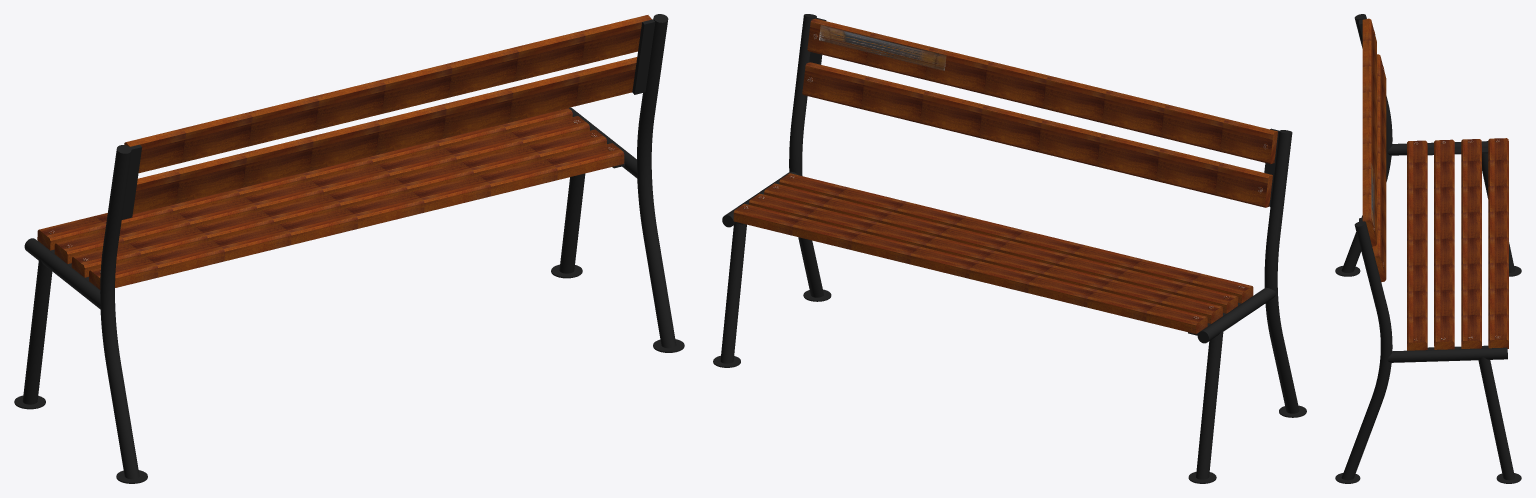
The picture shows the model from 3 angles, left to right: view 1: azimuth 30°, elevation 25°; view 2: azimuth 150°, elevation 25°; view 3: azimuth 270°, elevation 25°; orthographic projection. The views are drawn at different scales.
Parts seen in each view (by area): view 1: mesh1_mesh1-geometry, mesh3_mesh3-geometry, mesh27_mesh27-geometry, mesh7_mesh7-geometry, mesh5_mesh5-geometry, mesh25_mesh25-geometry; view 2: mesh3_mesh3-geometry, mesh1_mesh1-geometry, mesh27_mesh27-geometry, mesh7_mesh7-geometry, mesh45_mesh45-geometry; view 3: mesh1_mesh1-geometry, mesh7_mesh7-geometry, mesh3_mesh3-geometry, mesh27_mesh27-geometry, mesh45_mesh45-geometry.
Boxes of the visible parts, x1,y1,x2,y2 form: mesh1_mesh1-geometry: [37, 108, 624, 289]; mesh3_mesh3-geometry: [124, 15, 651, 213]; mesh27_mesh27-geometry: [22, 145, 139, 479]; mesh7_mesh7-geometry: [559, 14, 676, 348]; mesh5_mesh5-geometry: [632, 19, 655, 94]; mesh25_mesh25-geometry: [121, 144, 141, 219]; mesh3_mesh3-geometry: [802, 18, 1277, 207]; mesh1_mesh1-geometry: [733, 173, 1253, 333]; mesh27_mesh27-geometry: [1196, 130, 1299, 479]; mesh7_mesh7-geometry: [720, 14, 823, 363]; mesh45_mesh45-geometry: [819, 25, 946, 70]; mesh1_mesh1-geometry: [1407, 138, 1508, 350]; mesh7_mesh7-geometry: [1341, 221, 1514, 480]; mesh3_mesh3-geometry: [1362, 18, 1386, 282]; mesh27_mesh27-geometry: [1341, 14, 1514, 272]; mesh45_mesh45-geometry: [1371, 163, 1374, 226].
Size of the model in its own units: 0.8358 by 0.4583 by 0.3022.
